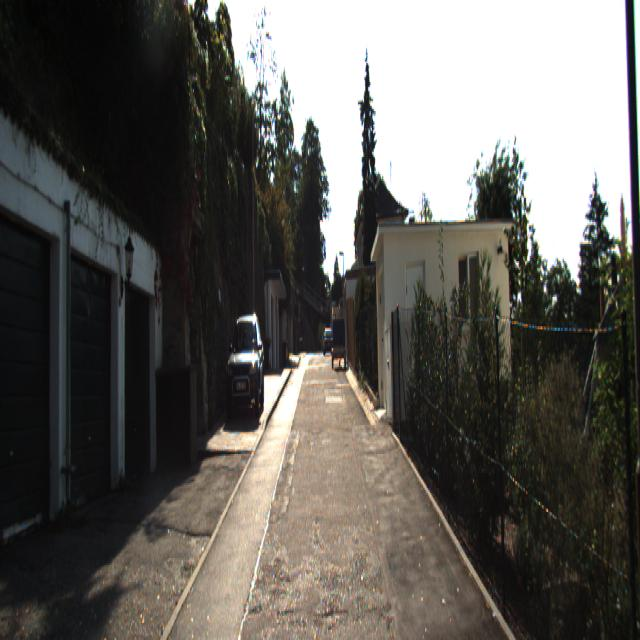Car: (225, 315, 266, 415), (332, 316, 347, 369)
